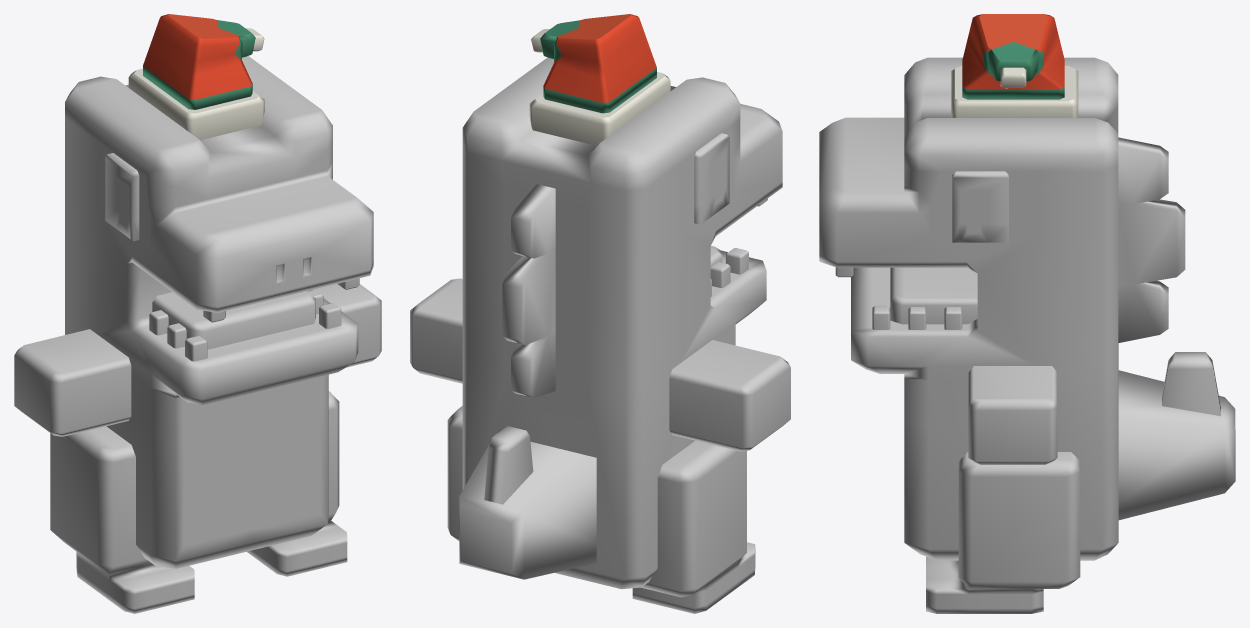
3 views of the same model, side by side, from view 1: azimuth 30°, elevation 25°; view 2: azimuth 150°, elevation 25°; view 3: azimuth 270°, elevation 25° (orthographic). The views are drawn at different scales.
Parts seen in each view (by area): view 1: pq0158ch, pq0158ch_obj; view 2: pq0158ch, pq0158ch_obj; view 3: pq0158ch, pq0158ch_obj.
Part boxes in pixels (box(x1,y1,x2,y2)): pq0158ch: box(14, 56, 381, 613); pq0158ch_obj: box(128, 14, 264, 140); pq0158ch: box(410, 57, 790, 613); pq0158ch_obj: box(529, 14, 670, 145); pq0158ch: box(819, 57, 1235, 613); pq0158ch_obj: box(951, 14, 1078, 117).
Size of the model in its own units: 1.36 by 2.09 by 1.47.
